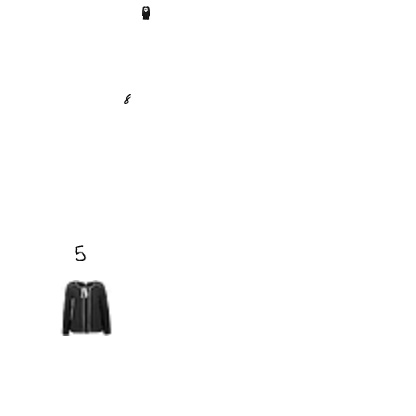5: (69, 243, 91, 265)
8: (120, 92, 134, 106)
Dress: (139, 6, 153, 20)
Shirt: (57, 280, 113, 336)
